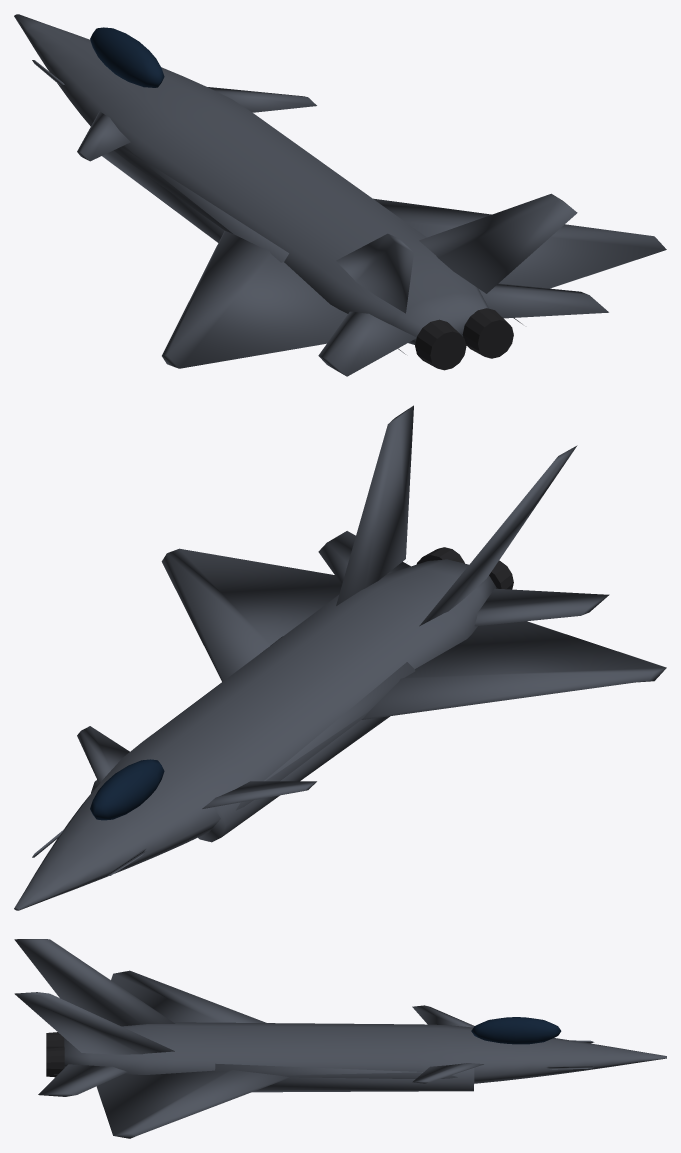
The picture shows the model from 3 angles, top to bottom: view 1: azimuth 30°, elevation 25°; view 2: azimuth 150°, elevation 25°; view 3: azimuth 270°, elevation 25°; orthographic projection. The views are drawn at different scales.
Parts seen in each view (by area): view 1: Body, Detail, Canopy; view 2: Body, Canopy, Detail; view 3: Body, Canopy, Detail.
Part boxes in pixels (bbox=[...]): Body: bbox=[14, 14, 666, 376]; Detail: bbox=[415, 308, 513, 370]; Canopy: bbox=[90, 27, 164, 87]; Body: bbox=[14, 405, 666, 910]; Canopy: bbox=[90, 759, 164, 820]; Detail: bbox=[416, 547, 513, 589]; Body: bbox=[14, 939, 666, 1138]; Canopy: bbox=[471, 1017, 561, 1044]; Detail: bbox=[46, 1032, 64, 1077].
Size of the model in its own units: 13.5 by 4.25 by 22.98.
